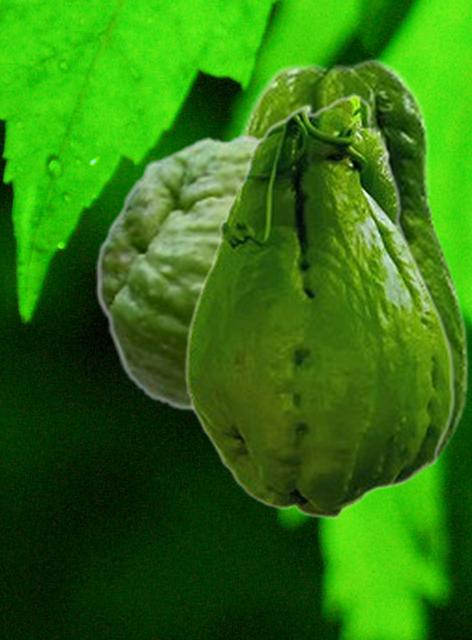sayote: (184, 93, 455, 519), (234, 57, 468, 488), (95, 133, 262, 411)
